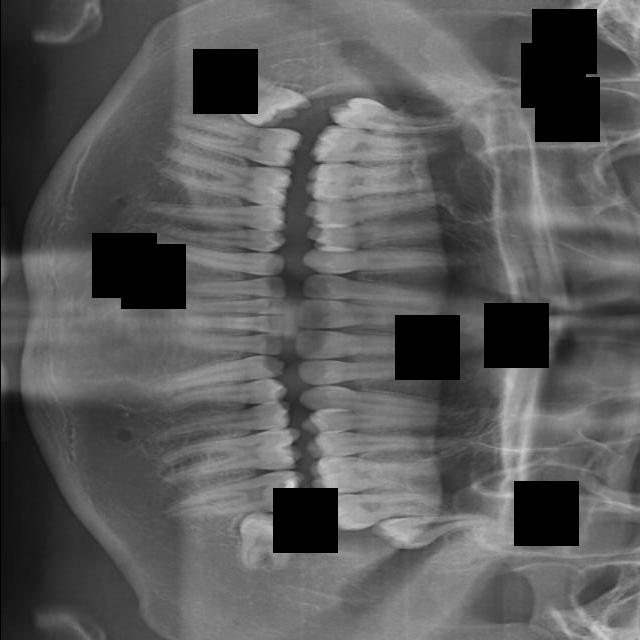3M ESPE Implant: (325, 91, 463, 146)
AGS Medikal Implant: (297, 355, 444, 386)
AMerOss Implant: (350, 411, 352, 411)
Amalgam filling: (300, 411, 446, 435)
Anthogyr Implant: (305, 425, 461, 461)
Bicon Implant: (309, 455, 437, 495)
BioHorizons Implant: (405, 502, 430, 508)
BioLife Implant: (369, 510, 495, 554)
Biomet 3i Implant: (238, 512, 312, 573)
Blue Sky Bio Implant: (160, 467, 310, 527)
Camlog Implant: (157, 425, 306, 485)
Caries: (309, 123, 458, 162)
Composite filling: (147, 399, 291, 448)
Cowellmedi Implant: (166, 375, 289, 418)
Crown: (153, 351, 286, 397)
DENTSPLY Implant: (180, 327, 285, 355)
Dentatus Implant: (190, 314, 289, 333)
Dentis Implant: (188, 297, 287, 313)
Dentium Implant: (180, 274, 288, 297)
Euroteknika Implant: (138, 236, 286, 278)
Filling: (152, 221, 288, 253)
Frontier Implant: (141, 193, 289, 231)
Hiossen Implant: (304, 160, 433, 199)
Implant: (249, 123, 250, 124)
Implant Direct: (152, 145, 295, 208)
Keystone Dental Implant: (226, 71, 227, 72)
MIS Implant: (353, 199, 354, 200)
Mandible: (305, 219, 448, 250)
Maxilla: (301, 248, 469, 274)
Megagen Implant: (300, 272, 443, 307)
Neodent Implant: (296, 299, 441, 335)
Neoss Implant: (294, 330, 454, 360)
